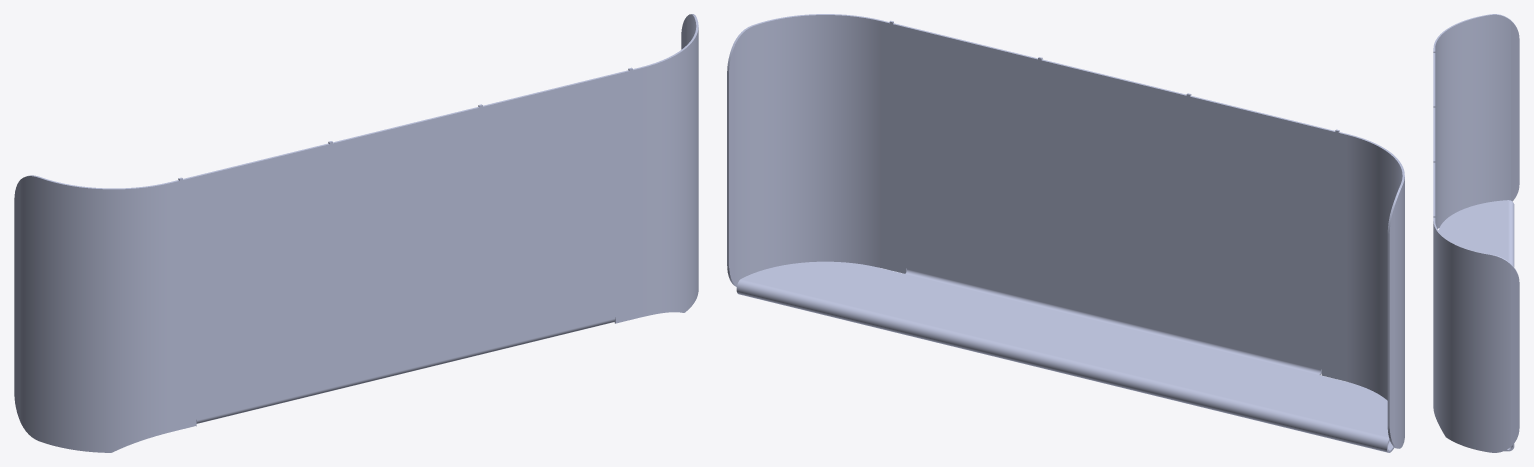
The model's file is HI01355_ALVEO_MENSOLA_Mensola_vers__40_cm.glb.
3 views of the same model, side by side, from view 1: azimuth 30°, elevation 25°; view 2: azimuth 150°, elevation 25°; view 3: azimuth 270°, elevation 25° (orthographic). The views are drawn at different scales.
Visible parts, largest first — view 1: STEP coordinate system; view 2: STEP coordinate system; view 3: STEP coordinate system.
Part boxes in pixels (box(x1,y1,x2,y2)): STEP coordinate system: box(14, 14, 698, 452); STEP coordinate system: box(727, 14, 1404, 452); STEP coordinate system: box(1433, 14, 1519, 452).
Bounding box in the file's own units: 0.3984 × 0.151 × 0.0592.
